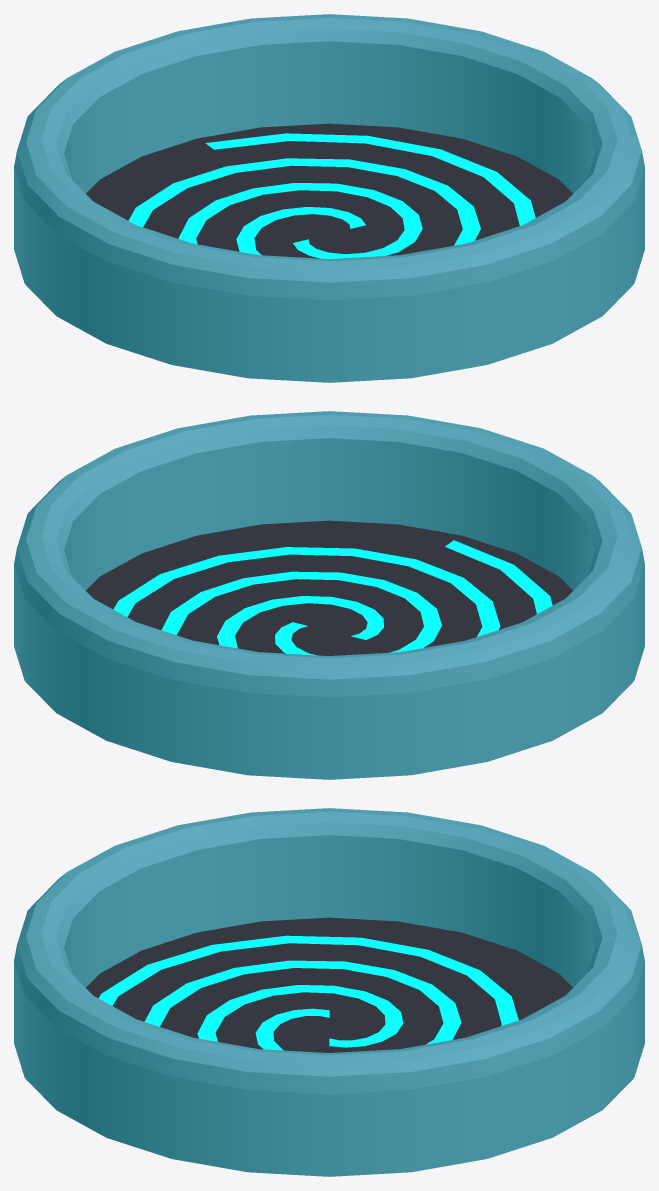
Rendered from simple.glb.
The picture shows the model from 3 angles, top to bottom: view 1: azimuth 30°, elevation 25°; view 2: azimuth 150°, elevation 25°; view 3: azimuth 270°, elevation 25°; orthographic projection.
Visible parts, largest first — view 1: magSpinWell, magSpinFloor, magSpinFloorSpiral; view 2: magSpinWell, magSpinFloor, magSpinFloorSpiral; view 3: magSpinWell, magSpinFloor, magSpinFloorSpiral.
Part boxes in pixels (<box>): magSpinWell: <box>14,14,644,382</box>; magSpinFloor: <box>86,123,572,258</box>; magSpinFloorSpiral: <box>128,133,535,258</box>; magSpinWell: <box>14,411,644,779</box>; magSpinFloor: <box>86,520,572,655</box>; magSpinFloorSpiral: <box>113,540,552,655</box>; magSpinWell: <box>14,808,644,1176</box>; magSpinFloor: <box>86,917,572,1052</box>; magSpinFloorSpiral: <box>98,935,518,1050</box>.
Size of the model in its own units: 4.16 by 0.8 by 4.16.
